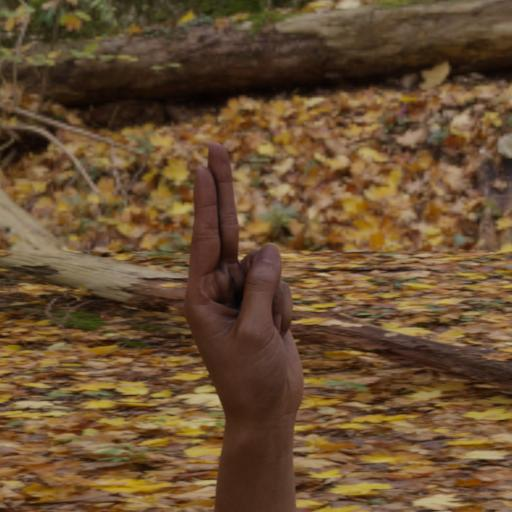U: (165, 129, 323, 438)
